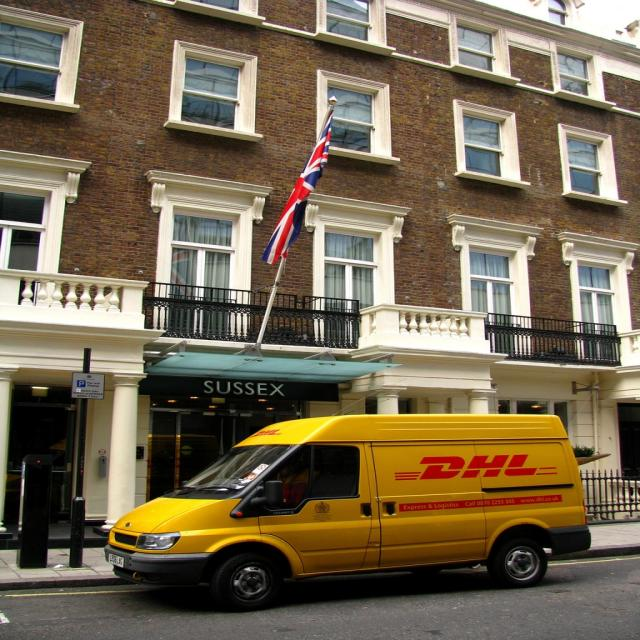dhl: (385, 452, 562, 483)
